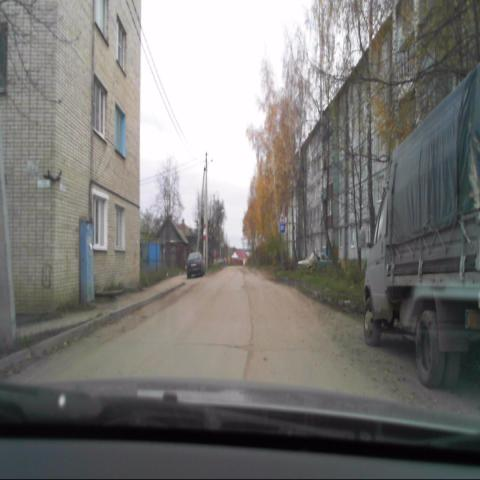6_2: (278, 222, 284, 233)
